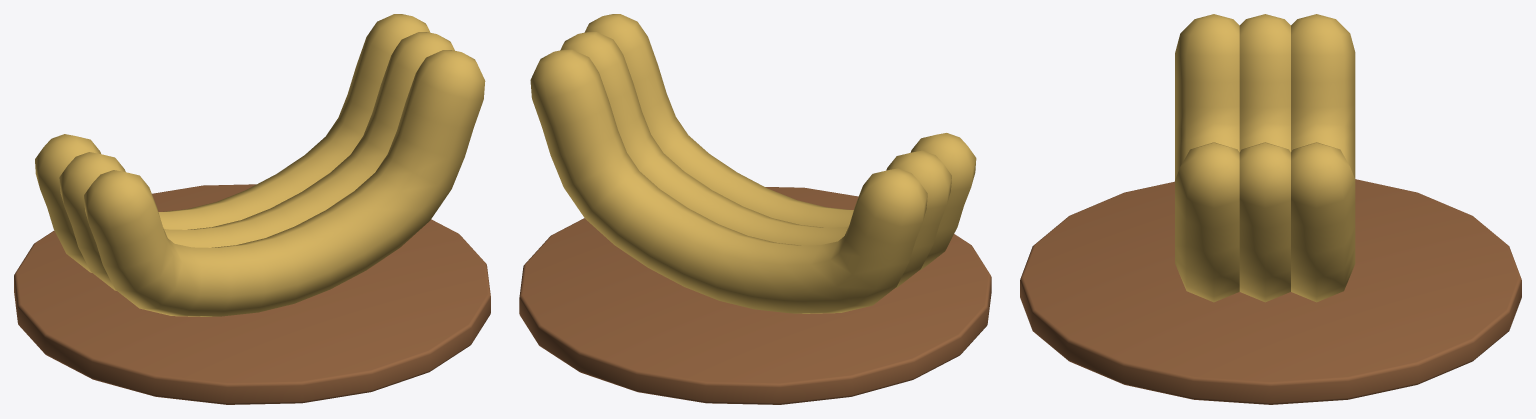
File: gold_bananas.glb
3 views of the same model, side by side, from view 1: azimuth 30°, elevation 25°; view 2: azimuth 150°, elevation 25°; view 3: azimuth 270°, elevation 25° (orthographic). The views are drawn at different scales.
Parts seen in each view (by area): view 1: Display_base, Curved_banana.002, Curved_banana.001, Curved_banana; view 2: Display_base, Curved_banana, Curved_banana.001, Curved_banana.002; view 3: Display_base, Curved_banana.002, Curved_banana, Curved_banana.001.
Part boxes in pixels (left/top/right/bottom): Display_base: left=14, top=184, right=490, bottom=404; Curved_banana.002: left=84, top=50, right=485, bottom=316; Curved_banana.001: left=59, top=32, right=454, bottom=290; Curved_banana: left=35, top=14, right=430, bottom=272; Display_base: left=519, top=187, right=991, bottom=404; Curved_banana: left=530, top=49, right=927, bottom=313; Curved_banana.001: left=560, top=31, right=951, bottom=288; Curved_banana.002: left=584, top=14, right=976, bottom=270; Display_base: left=1020, top=179, right=1521, bottom=404; Curved_banana.002: left=1175, top=14, right=1239, bottom=302; Curved_banana: left=1291, top=14, right=1355, bottom=302; Curved_banana.001: left=1239, top=14, right=1290, bottom=302.
Bounding box in the file's own units: 0.44 × 0.2337 × 0.44.
